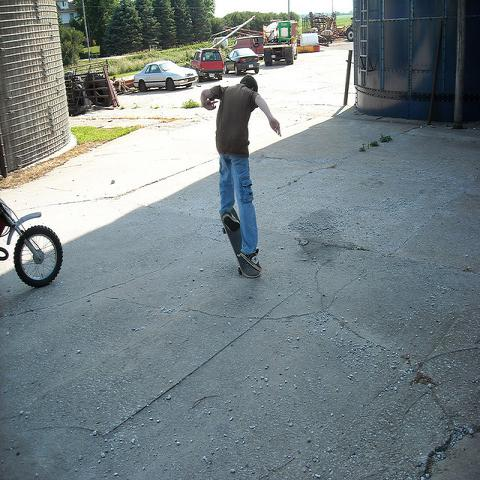car: (134, 60, 200, 92), (190, 46, 226, 82), (224, 47, 260, 75)
motorcycle: (0, 198, 63, 290)
truck: (262, 18, 298, 67)
